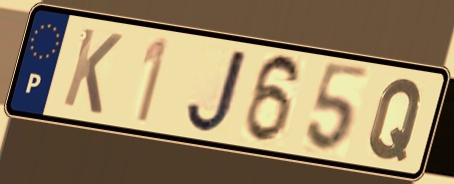1: (134, 35, 172, 127)
5: (302, 59, 375, 158)
6: (240, 52, 308, 147)
J: (183, 45, 252, 135)
K: (58, 24, 126, 118)
Q: (365, 76, 427, 165)
